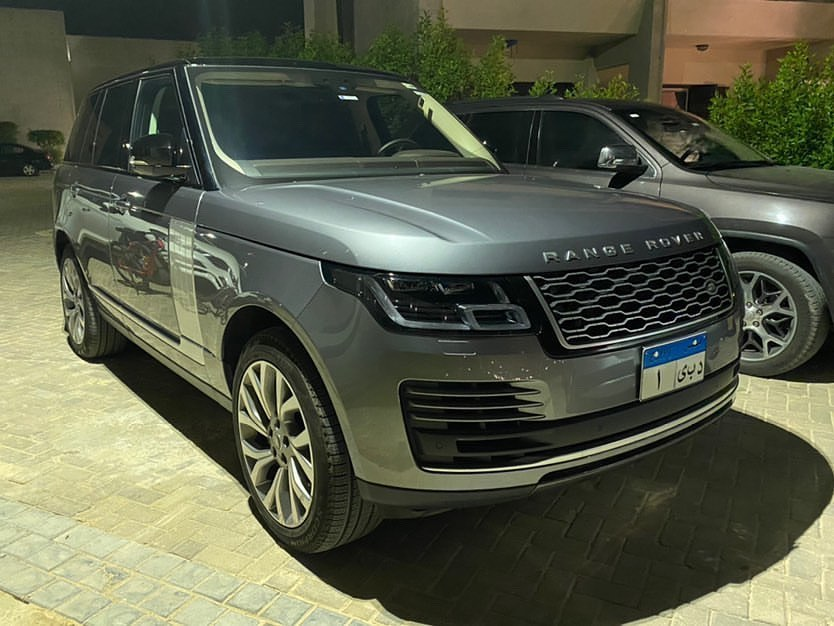carpl: (641, 339, 713, 397)
